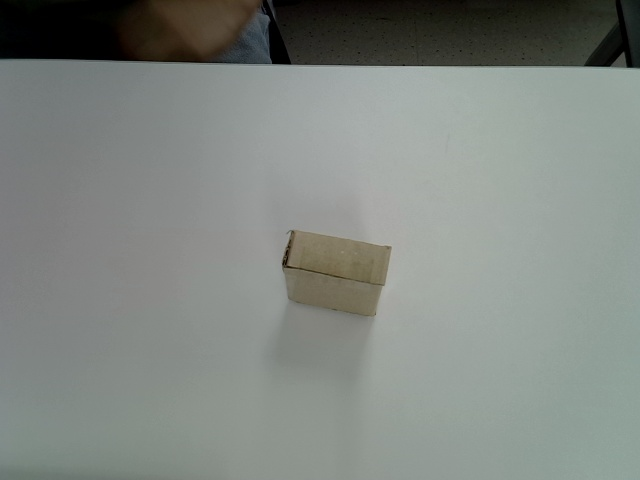normal: (282, 229, 395, 318)
